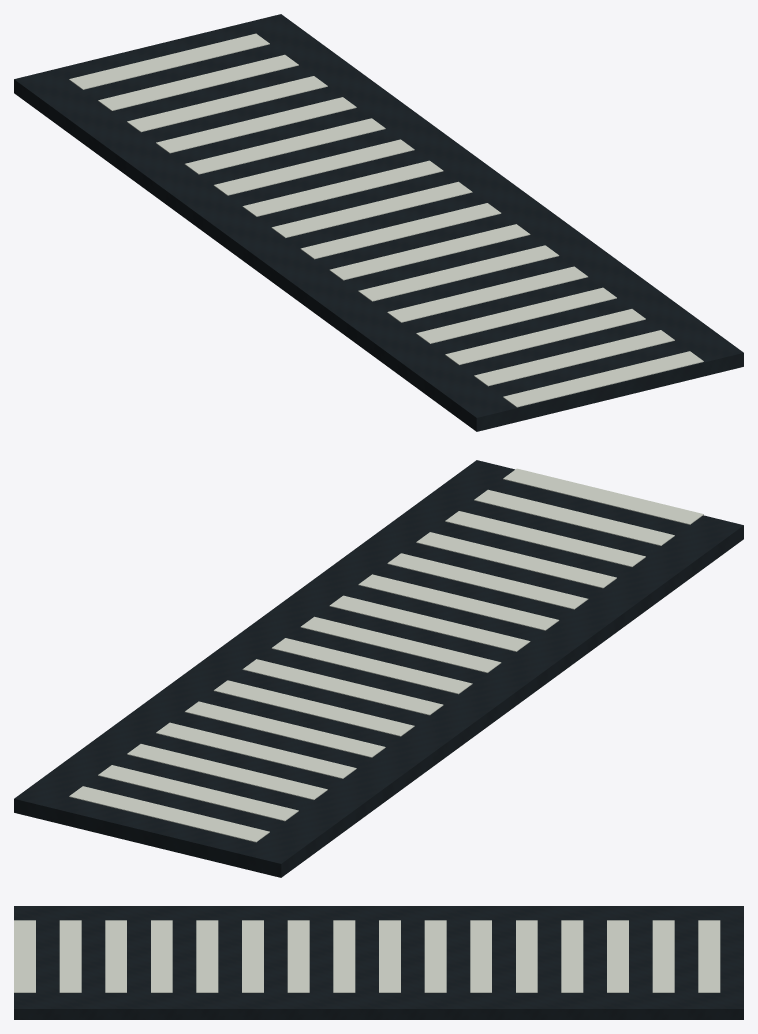
The model's file is Transit_Road_4L_Crosswalk_4m.glb.
3 renders of one model, top to bottom at view 1: azimuth 30°, elevation 25°; view 2: azimuth 150°, elevation 25°; view 3: azimuth 270°, elevation 25°, orthographic. The views are drawn at different scales.
Visible parts, largest first — view 1: Transit_Road_4L_Crosswalk_4m_Surface, Transit_Road_4L_Crosswalk_4m_MarkCrosswalk; view 2: Transit_Road_4L_Crosswalk_4m_Surface, Transit_Road_4L_Crosswalk_4m_MarkCrosswalk; view 3: Transit_Road_4L_Crosswalk_4m_Surface, Transit_Road_4L_Crosswalk_4m_MarkCrosswalk.
Boxes of the visible parts, <box> form: Transit_Road_4L_Crosswalk_4m_Surface: <box>14,14,743,431</box>; Transit_Road_4L_Crosswalk_4m_MarkCrosswalk: <box>69,33,703,407</box>; Transit_Road_4L_Crosswalk_4m_Surface: <box>14,460,743,877</box>; Transit_Road_4L_Crosswalk_4m_MarkCrosswalk: <box>69,468,703,842</box>; Transit_Road_4L_Crosswalk_4m_Surface: <box>14,906,743,1019</box>; Transit_Road_4L_Crosswalk_4m_MarkCrosswalk: <box>14,920,720,992</box>.
Size of the model in its own units: 4 by 0.219 by 12.
2 materials, 1 textured.
